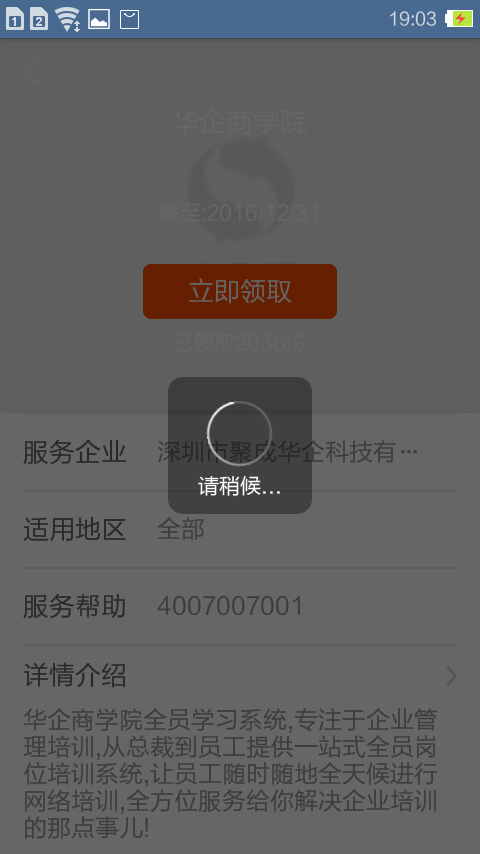alert: (165, 375, 316, 520)
